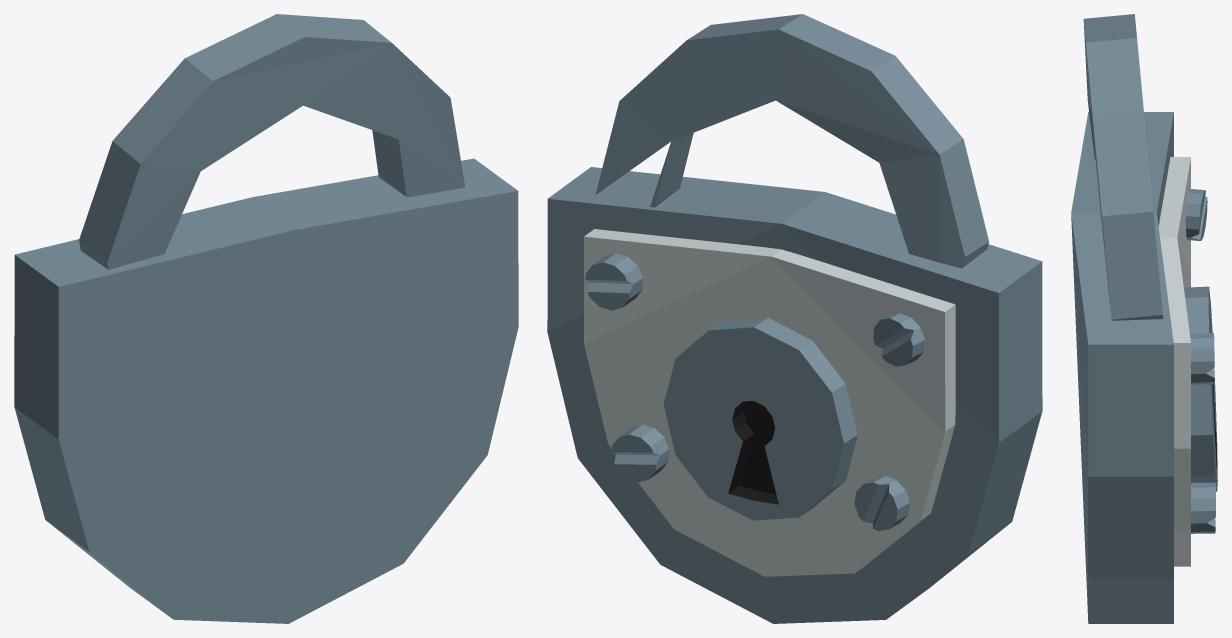
The model's file is lock.glb.
3 renders of one model, left to right at view 1: azimuth 30°, elevation 25°; view 2: azimuth 150°, elevation 25°; view 3: azimuth 270°, elevation 25°, orthographic. The views are drawn at different scales.
Parts seen in each view (by area): view 1: Node; view 2: Node; view 3: Node.
Boxes of the visible parts, x1,y1,x2,y2 form: Node: (14, 14, 518, 623); Node: (547, 14, 1042, 623); Node: (1071, 14, 1217, 623).
Size of the model in its own units: 0.3 by 0.3667 by 0.0856.
